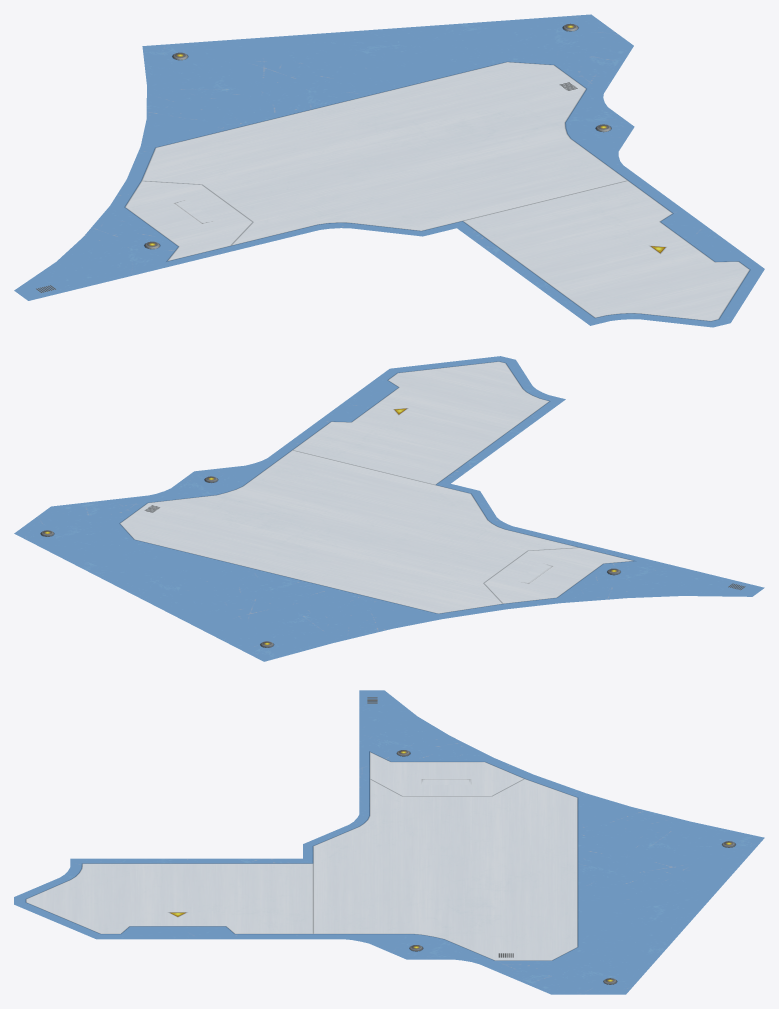
Rendered from mesh_1002_zhucheng_zjz_dibiao002.FBX.
The picture shows the model from 3 angles, top to bottom: view 1: azimuth 30°, elevation 25°; view 2: azimuth 150°, elevation 25°; view 3: azimuth 270°, elevation 25°; orthographic projection. The views are drawn at different scales.
Visible parts, largest first — view 1: mesh_1002_zhucheng_zjz_dibiao002; view 2: mesh_1002_zhucheng_zjz_dibiao002; view 3: mesh_1002_zhucheng_zjz_dibiao002.
Part boxes in pixels (x1,y1,x2,y2): mesh_1002_zhucheng_zjz_dibiao002: (14,14,764,327); mesh_1002_zhucheng_zjz_dibiao002: (14,356,764,661); mesh_1002_zhucheng_zjz_dibiao002: (14,690,764,994).
Bounding box in the file's own units: 2384 × 9.1 × 2486.
